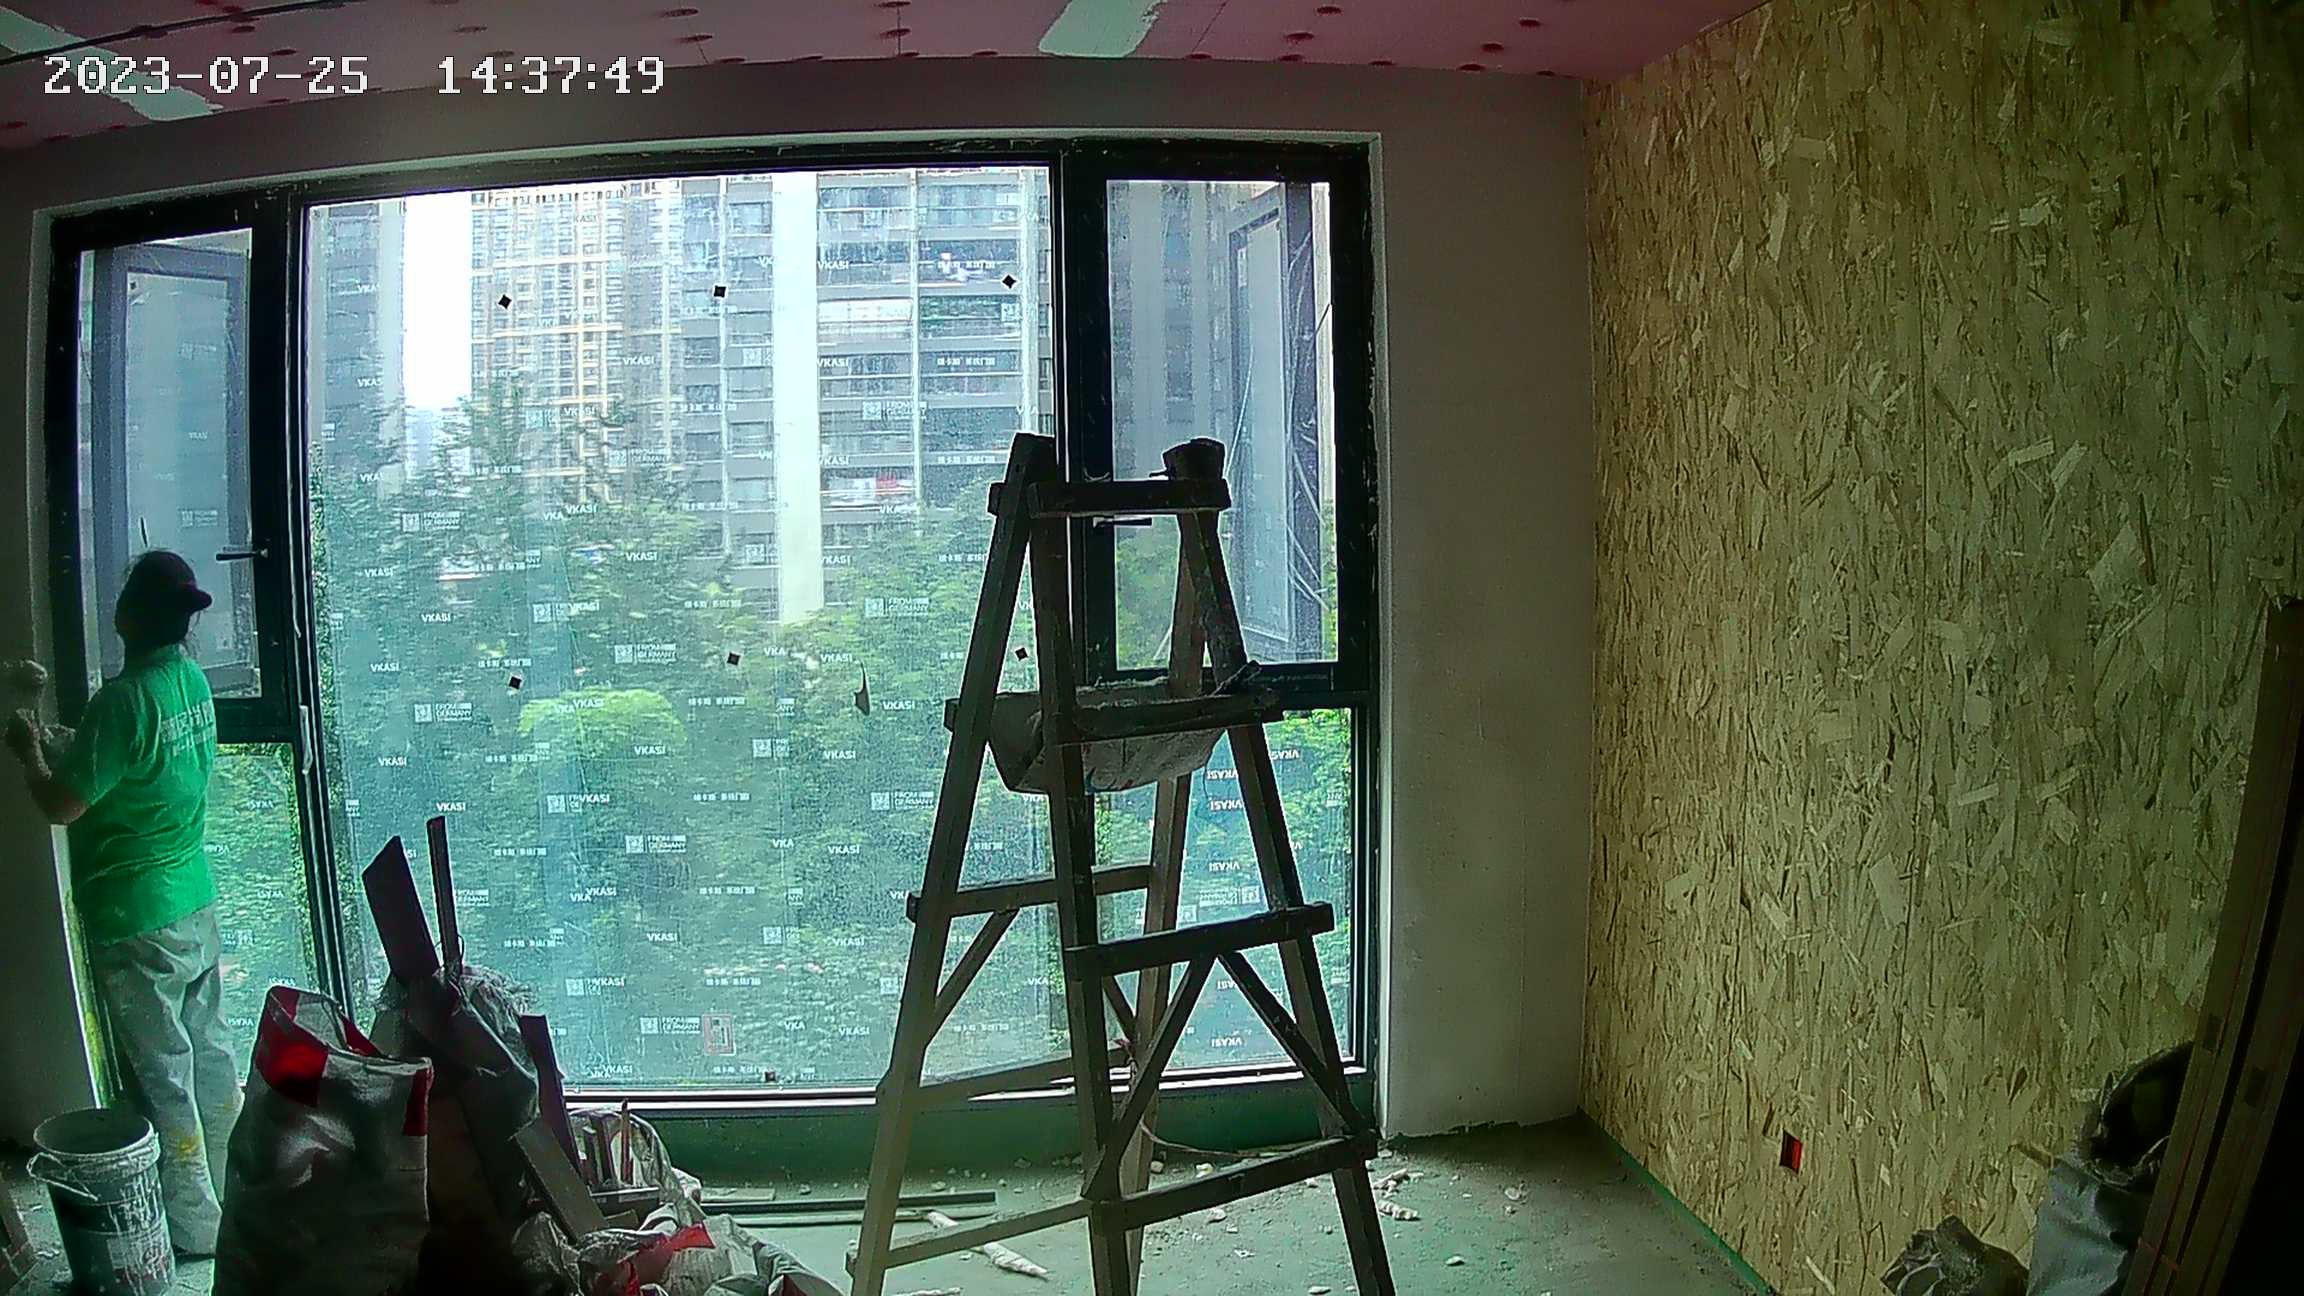people: (12, 548, 260, 1266)
window: (49, 181, 1372, 1077)
